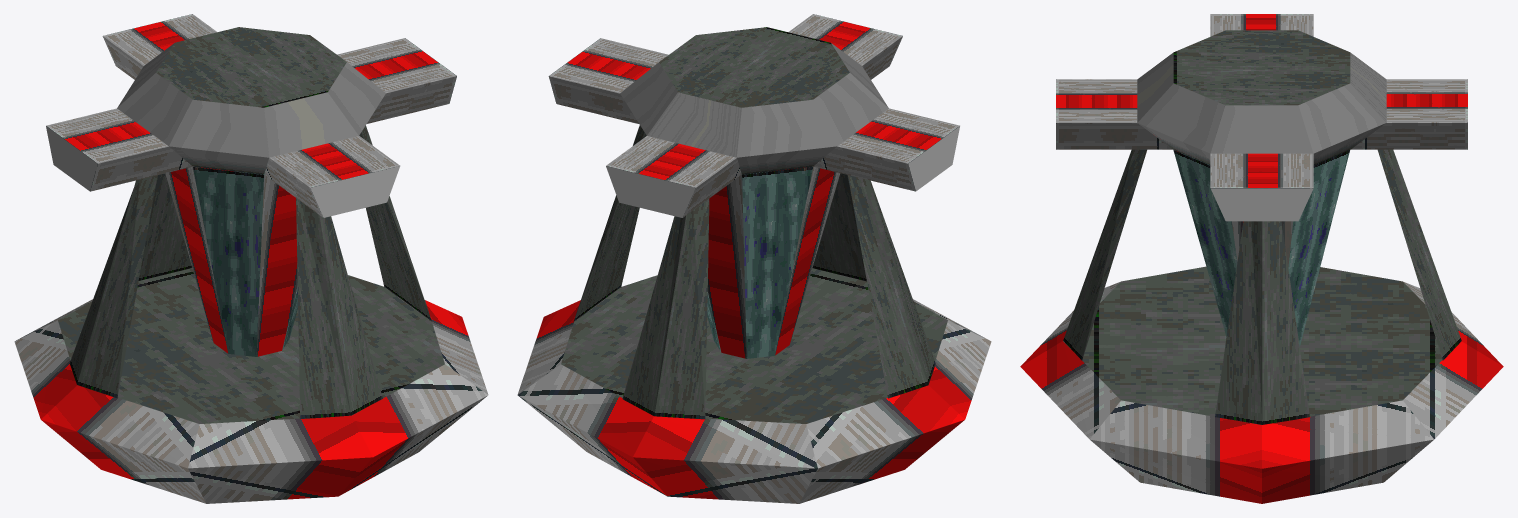
Rendered from model_006_building_reactor.glb.
3 views of the same model, side by side, from view 1: azimuth 30°, elevation 25°; view 2: azimuth 150°, elevation 25°; view 3: azimuth 270°, elevation 25° (orthographic).
Parts seen in each view (by area): view 1: model_099; view 2: model_099; view 3: model_099.
Part boxes in pixels (x1,y1,x2,y2): model_099: (14, 14, 488, 503); model_099: (517, 14, 991, 503); model_099: (1020, 14, 1503, 503).
Bounding box in the file's own units: 20 × 16.58 × 20.
Materials: 5 (5 with a texture image).
